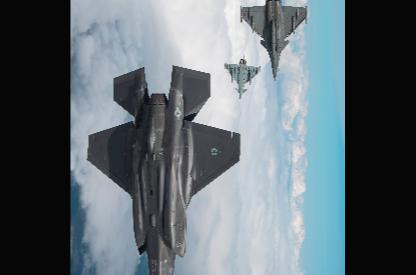E2: (224, 50, 260, 98)
F22: (86, 64, 241, 273)
RQ4: (241, 0, 309, 80)
